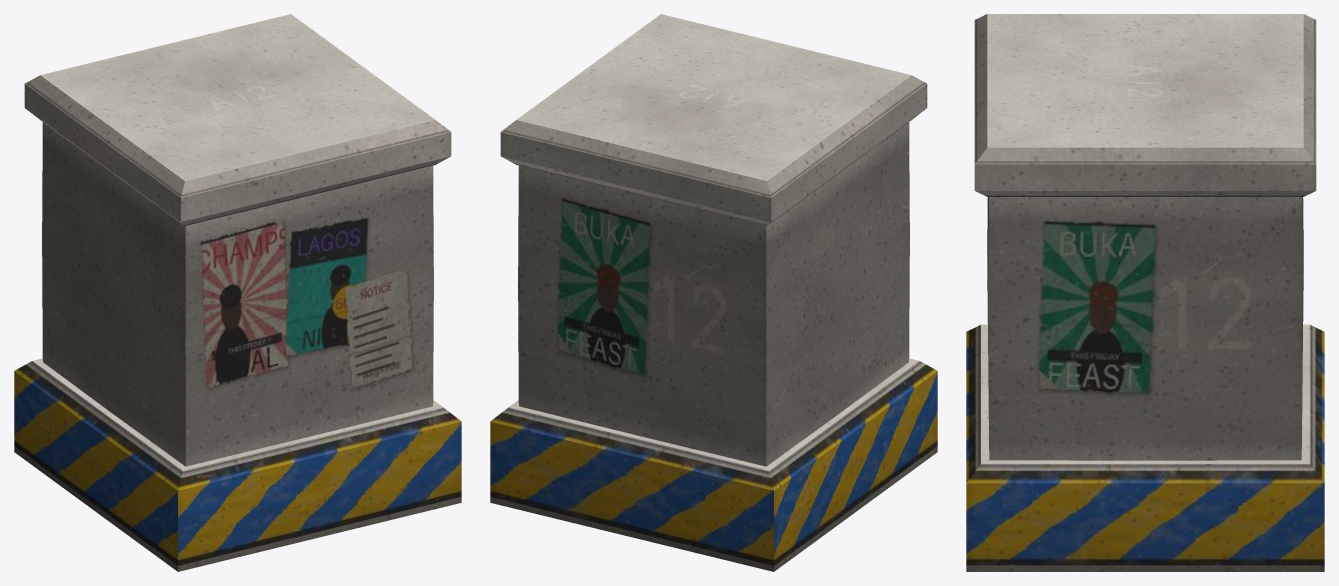
Rendered from prop_pillar_a.glb.
3 views of the same model, side by side, from view 1: azimuth 30°, elevation 25°; view 2: azimuth 150°, elevation 25°; view 3: azimuth 270°, elevation 25° (orthographic). The views are drawn at different scales.
Parts seen in each view (by area): view 1: prop_pillar_a_body; view 2: prop_pillar_a_body; view 3: prop_pillar_a_body.
Boxes of the visible parts, bbox=[...] form: prop_pillar_a_body: bbox=[14, 14, 461, 571]; prop_pillar_a_body: bbox=[490, 14, 937, 571]; prop_pillar_a_body: bbox=[966, 14, 1324, 571].
Size of the model in its own units: 0.86 by 1.1 by 0.86.
1 material, 1 textured.
